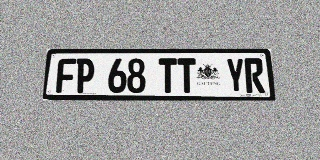6: (108, 58, 127, 93)
8: (127, 58, 146, 93)
F: (56, 58, 76, 93)
P: (75, 58, 95, 93)
R: (244, 58, 265, 93)
T: (177, 58, 196, 93), (159, 58, 177, 93)
Y: (225, 58, 246, 93)
